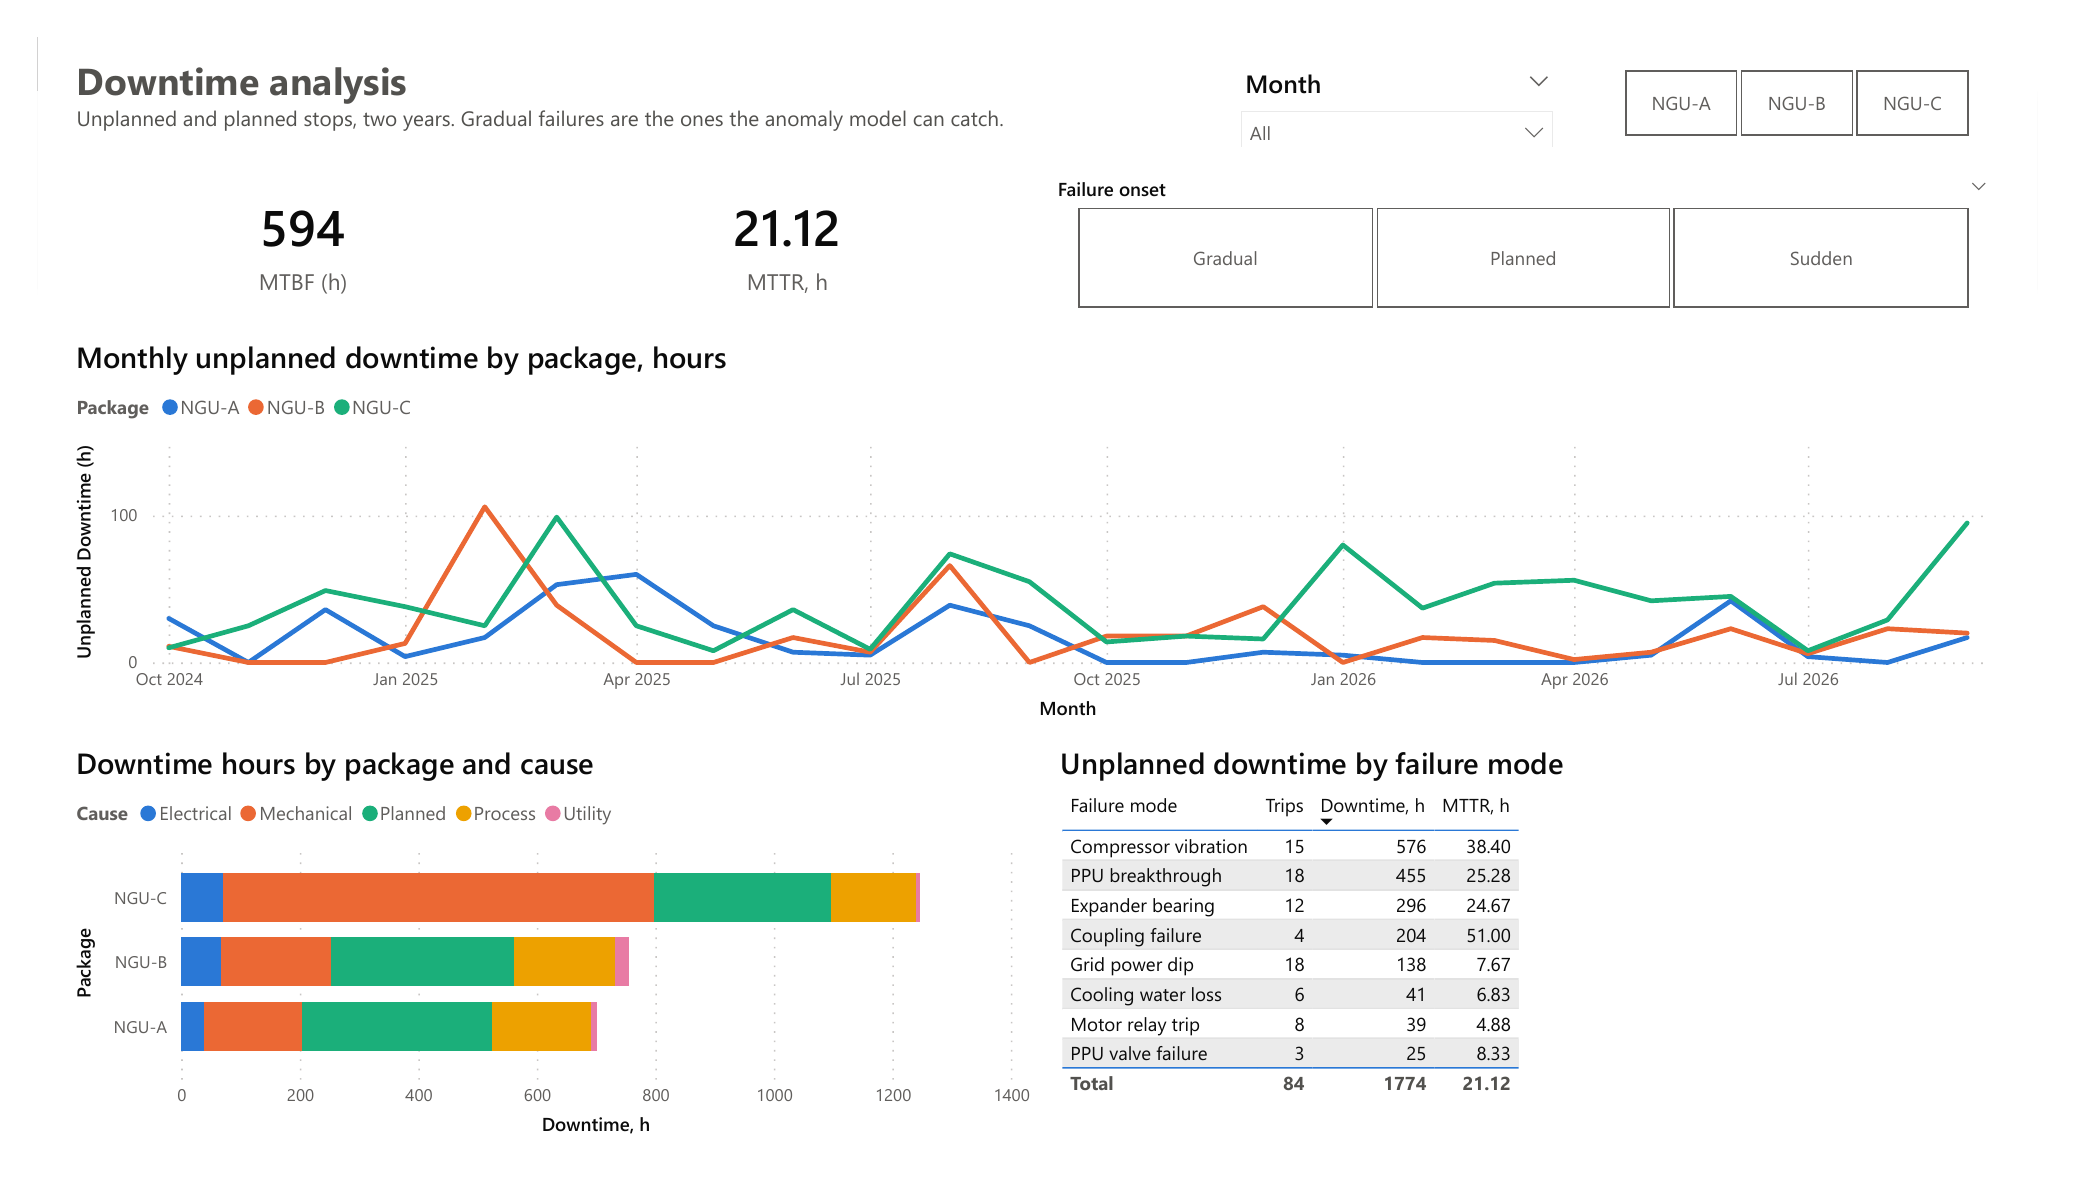

The page's visual inventory and layout, read from the dashboard file:
{"tool":"powerbi","page":{"name":"Downtime Analysis","canvas":[1280,720],"ordinal":1},"visuals":[{"type":"textbox","box":[20,6,720,68],"z":1001},{"type":"slicer","fields":{"Values":["dim_date.month_name"]},"box":[760,14,220,56],"z":1010},{"type":"slicer","fields":{"Values":["dim_package.package_id"]},"box":[990,14,270,56],"z":1020},{"type":"barChart","title":"Downtime hours by package and cause","fields":{"Category":["dim_package.package_id"],"Y":["_Measures.Event Downtime (h)"],"Series":["fact_downtime_events.cause_category"]},"box":[20,452,620,256],"z":1030},{"type":"lineChart","title":"Monthly unplanned downtime by package, hours","fields":{"Category":["dim_date.month_start"],"Y":["_Measures.Unplanned Downtime (h)"],"Series":["dim_package.package_id"]},"box":[20,192,1240,250],"z":1040},{"type":"tableEx","title":"Unplanned downtime by failure mode","fields":{"Values":["fact_downtime_events.failure_mode","_Measures.Unplanned Trips","_Measures.Event Downtime (h)","_Measures.MTTR (h)"]},"box":[650,452,610,256],"z":1050},{"type":"slicer","fields":{"Values":["fact_downtime_events.onset"]},"box":[640,84,620,96],"z":1060},{"type":"card","fields":{"Values":["_Measures.MTBF (h)"]},"box":[20,84,300,96],"z":1070},{"type":"card","fields":{"Values":["_Measures.MTTR (h)"]},"box":[330,84,300,96],"z":1080}]}

Visuals, with their boxes on the page's 1280x720 design canvas (x1, y1, x2, y2). These are canvas units, not pixel positions in the 2075x1200 screenshot, which may show the page scaled, cropped or inside an application window:
textbox: box=[20, 6, 740, 74]
slicer - dim_date.month_name: box=[760, 14, 980, 70]
slicer - dim_package.package_id: box=[990, 14, 1260, 70]
"Downtime hours by package and cause" barChart: box=[20, 452, 640, 708]
"Monthly unplanned downtime by package, hours" lineChart: box=[20, 192, 1260, 442]
"Unplanned downtime by failure mode" tableEx: box=[650, 452, 1260, 708]
slicer - fact_downtime_events.onset: box=[640, 84, 1260, 180]
card - _Measures.MTBF (h): box=[20, 84, 320, 180]
card - _Measures.MTTR (h): box=[330, 84, 630, 180]
